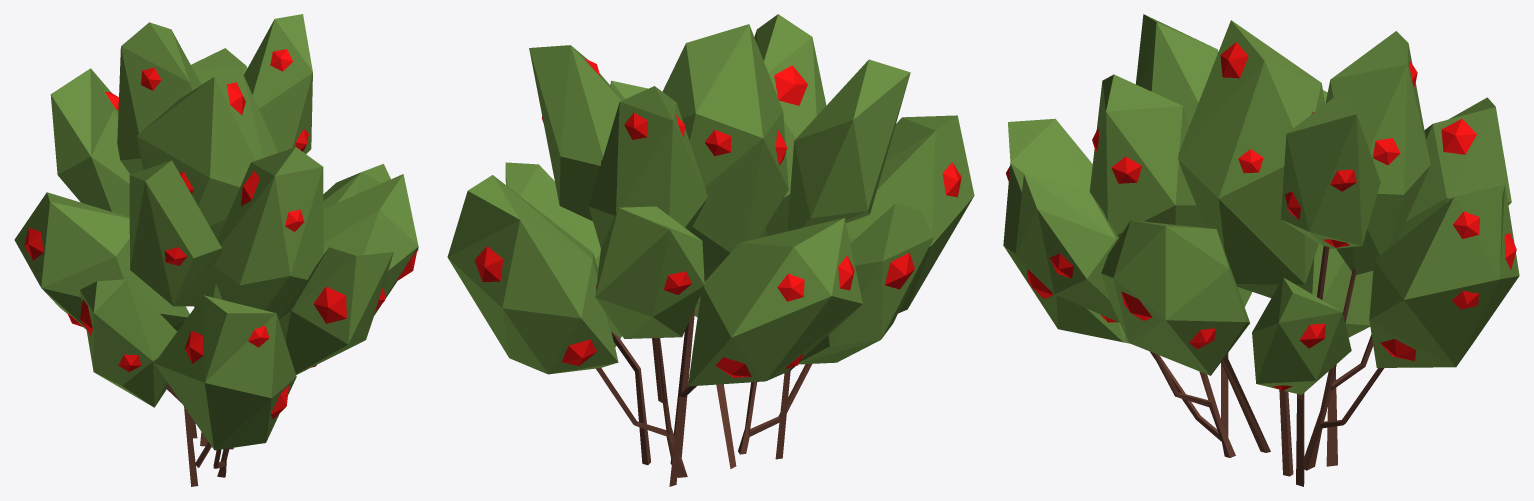
File: mountain_ash_with_berries_3.fbx
3 views of the same model, side by side, from view 1: azimuth 30°, elevation 25°; view 2: azimuth 150°, elevation 25°; view 3: azimuth 270°, elevation 25° (orthographic). The views are drawn at different scales.
Parts seen in each view (by area): view 1: mountain_ash_with_berries_3; view 2: mountain_ash_with_berries_3; view 3: mountain_ash_with_berries_3.
Part boxes in pixels (box(x1,y1,x2,y2)): mountain_ash_with_berries_3: box(14, 14, 418, 486); mountain_ash_with_berries_3: box(447, 14, 974, 486); mountain_ash_with_berries_3: box(1003, 14, 1519, 486).
Bounding box in the file's own units: 193 × 210 × 228.
